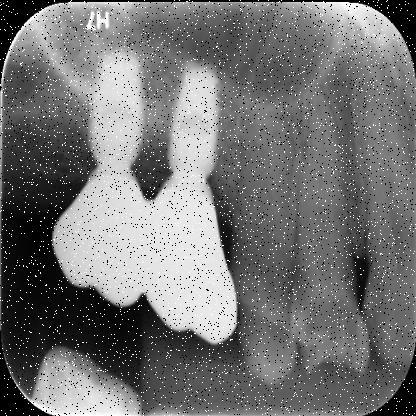Bicon: (93, 45, 144, 167), (172, 62, 216, 182)
